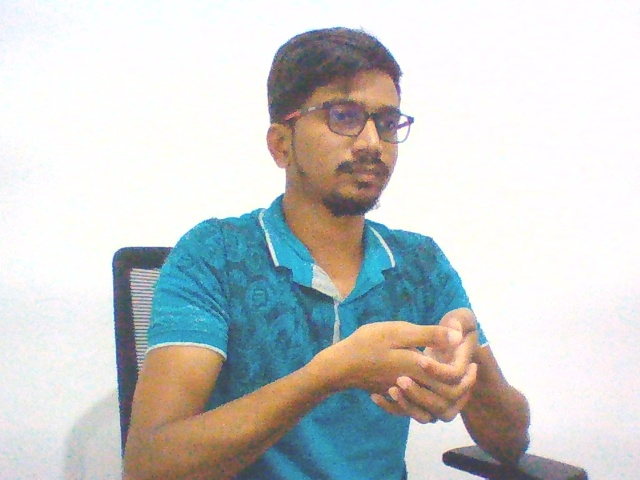mangosteen: (307, 302, 490, 430)
